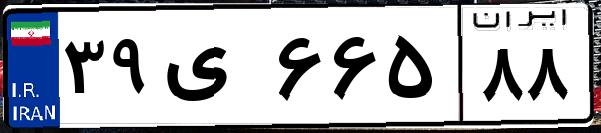3: (57, 26, 110, 100)
5: (385, 28, 445, 110)
6: (270, 28, 330, 110), (330, 28, 385, 110)
8: (475, 38, 525, 113), (525, 38, 570, 115)
9: (110, 28, 158, 98)
ی: (158, 20, 270, 120)
